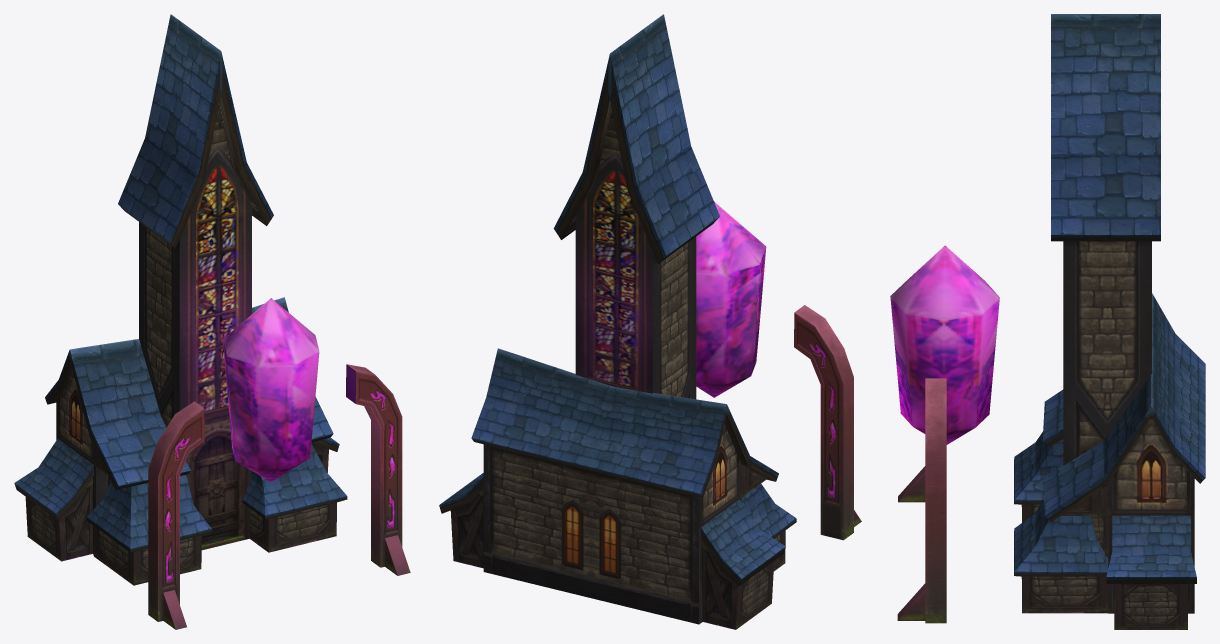
Rendered from OleStone_Level03.FBX.
The picture shows the model from 3 angles, left to right: view 1: azimuth 30°, elevation 25°; view 2: azimuth 150°, elevation 25°; view 3: azimuth 270°, elevation 25°; orthographic projection. The views are drawn at different scales.
Parts seen in each view (by area): view 1: OleStone_Level03, OleStone_Level03_A; view 2: OleStone_Level03, OleStone_Level03_A; view 3: OleStone_Level03, OleStone_Level03_A.
Part boxes in pixels (x1,y1,x2,y2): OleStone_Level03: (14, 14, 410, 629); OleStone_Level03_A: (223, 298, 319, 481); OleStone_Level03: (439, 14, 861, 629); OleStone_Level03_A: (696, 201, 766, 397); OleStone_Level03: (897, 14, 1205, 629); OleStone_Level03_A: (890, 245, 999, 444).
Bounding box in the file's own units: 522 × 879 × 461.
